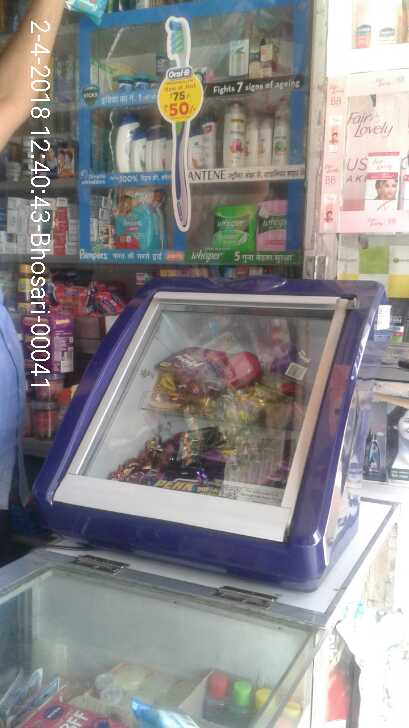vicks: (113, 51, 172, 94)
